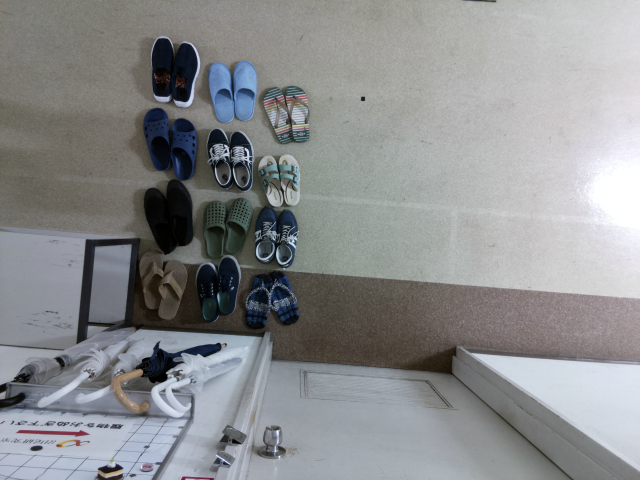Copy of Copy of Copy of Copy of Copy of Copy of Copy of Copy of Copy of Copy of: (160, 174, 201, 249), (136, 181, 177, 255), (131, 246, 170, 317), (153, 256, 192, 326), (211, 250, 246, 322), (241, 266, 275, 339), (267, 265, 307, 327), (187, 257, 221, 329), (196, 196, 229, 260), (273, 205, 306, 268), (222, 193, 254, 256), (250, 201, 282, 264), (276, 149, 308, 210), (255, 149, 287, 210)
Copy of Copy of Copy of Copy of Copy of Copy of Copy of Copy of Copy of shoe: (282, 81, 317, 150)
Copy of Copy of Copy of Copy of Copy of Copy of Copy of Copy of shoe: (260, 82, 294, 149)
Copy of Copy of Copy of Copy of Copy of Copy of Copy of shoe: (224, 128, 256, 194)
Copy of Copy of Copy of Copy of Copy of Copy of shoe: (202, 124, 236, 194)
Copy of Copy of Copy of Copy of Copy of shoe: (229, 52, 262, 126)
Copy of Copy of Copy of Copy of Copy of umbrella: (1, 324, 118, 408)
Copy of Copy of Copy of Copy of shoe: (205, 56, 239, 130)
Copy of Copy of Copy of Copy of umbrella: (31, 326, 141, 411)
Copy of Copy of Copy of shoe: (167, 112, 201, 186)
Copy of Copy of Copy of umbrella: (68, 330, 174, 411)
Copy of Copy of shoe: (139, 101, 173, 175)
Copy of Copy of umbrella: (105, 336, 230, 419)
Copy of shoe: (169, 36, 203, 110)
Copy of umbrella: (163, 352, 255, 421)
shoe: (145, 29, 179, 103)
umbrella: (149, 343, 256, 424)
